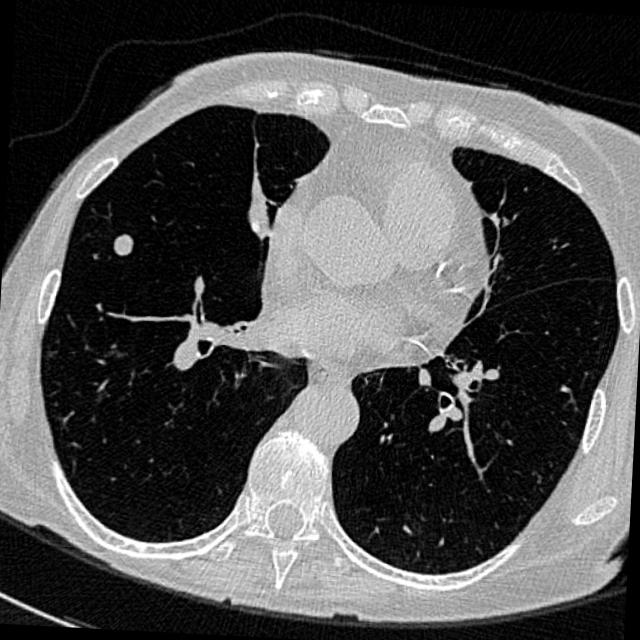nodule: (99, 220, 146, 267)
